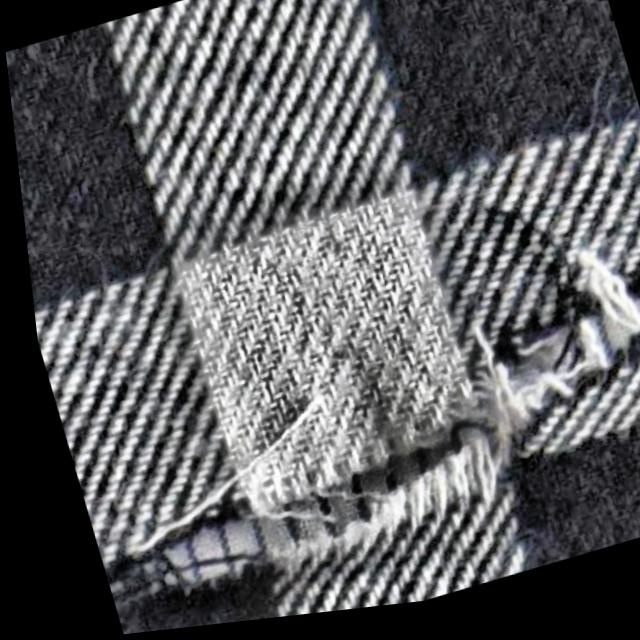Stitch: (104, 358, 336, 588), (293, 394, 455, 567), (113, 528, 320, 640), (520, 207, 640, 399), (307, 414, 436, 564), (436, 324, 565, 469), (336, 398, 459, 550), (169, 529, 325, 634)
